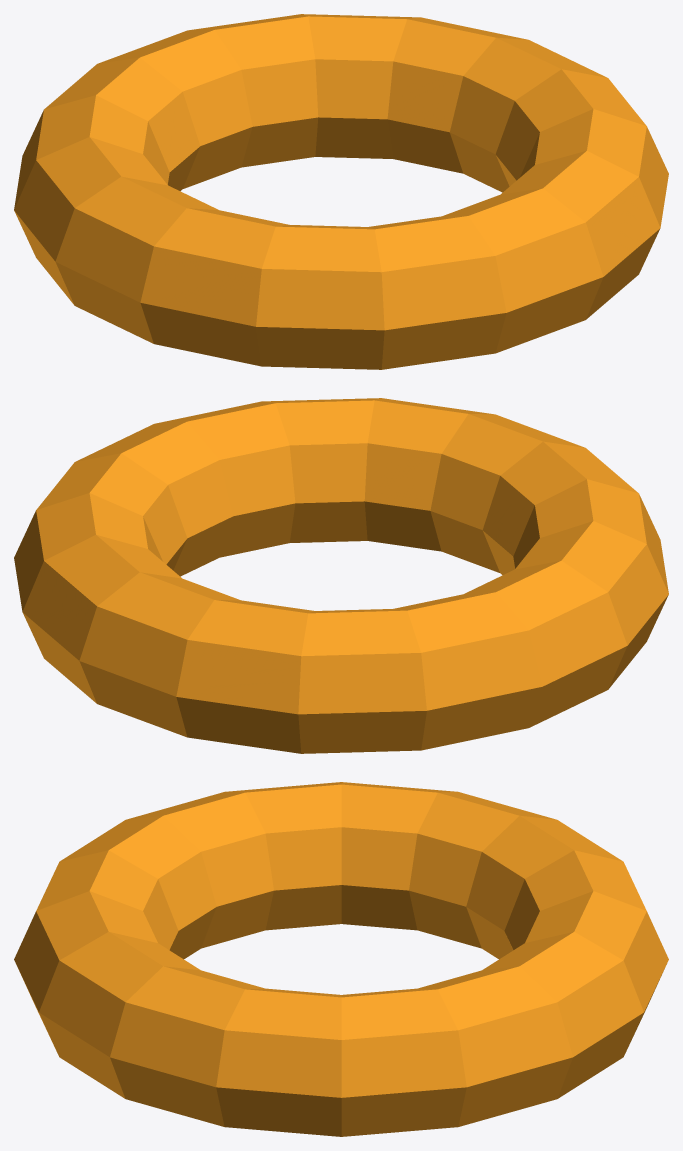
The picture shows the model from 3 angles, top to bottom: view 1: azimuth 30°, elevation 25°; view 2: azimuth 150°, elevation 25°; view 3: azimuth 270°, elevation 25°; orthographic projection.
Visible parts, largest first — view 1: SM_Primitive_Torus_03; view 2: SM_Primitive_Torus_03; view 3: SM_Primitive_Torus_03.
Part boxes in pixels (x1=…): SM_Primitive_Torus_03: x1=14, y1=14, x2=668, y2=369; SM_Primitive_Torus_03: x1=14, y1=398, x2=668, y2=753; SM_Primitive_Torus_03: x1=14, y1=782, x2=668, y2=1136.
Bounding box in the file's own units: 99.73 × 23.02 × 99.73.
